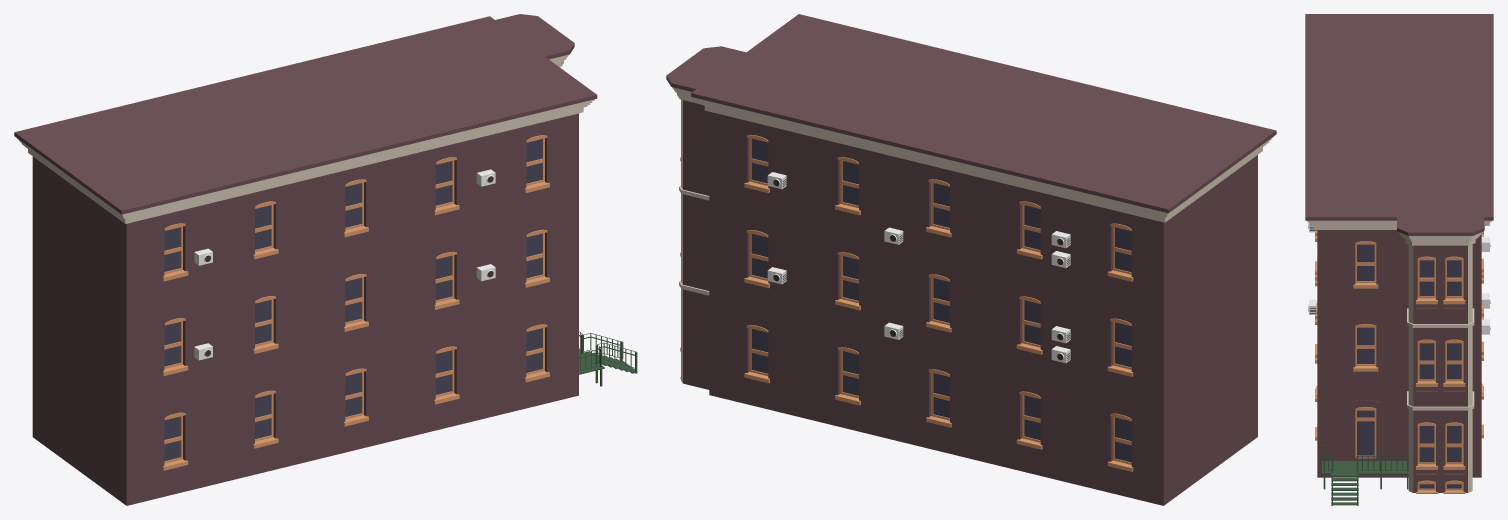
The model's file is Building1.fbx.
3 views of the same model, side by side, from view 1: azimuth 30°, elevation 25°; view 2: azimuth 150°, elevation 25°; view 3: azimuth 270°, elevation 25° (orthographic). The views are drawn at different scales.
Parts seen in each view (by area): view 1: Plane.011, Plane.038, Plane.010, Plane.001; view 2: Plane.011, Plane.010, Plane.038, Plane.001; view 3: Plane.011, Plane.038, Plane.010, Plane.001.
Part boxes in pixels (x1=…): Plane.011: x1=14, y1=14, x2=597, y2=223; Plane.038: x1=32, y1=301, x2=637, y2=505; Plane.010: x1=32, y1=206, x2=578, y2=411; Plane.001: x1=32, y1=67, x2=578, y2=316; Plane.011: x1=666, y1=14, x2=1276, y2=222; Plane.010: x1=679, y1=194, x2=1257, y2=410; Plane.038: x1=680, y1=289, x2=1257, y2=505; Plane.001: x1=679, y1=99, x2=1257, y2=315; Plane.011: x1=1305, y1=14, x2=1493, y2=245; Plane.038: x1=1315, y1=278, x2=1483, y2=505; Plane.010: x1=1308, y1=234, x2=1490, y2=410; Plane.001: x1=1308, y1=222, x2=1490, y2=327.
Size of the model in its own units: 2935 by 1600 by 1029.
